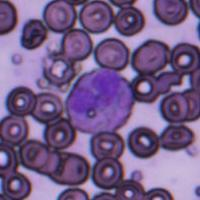E: (66, 68, 134, 134)
